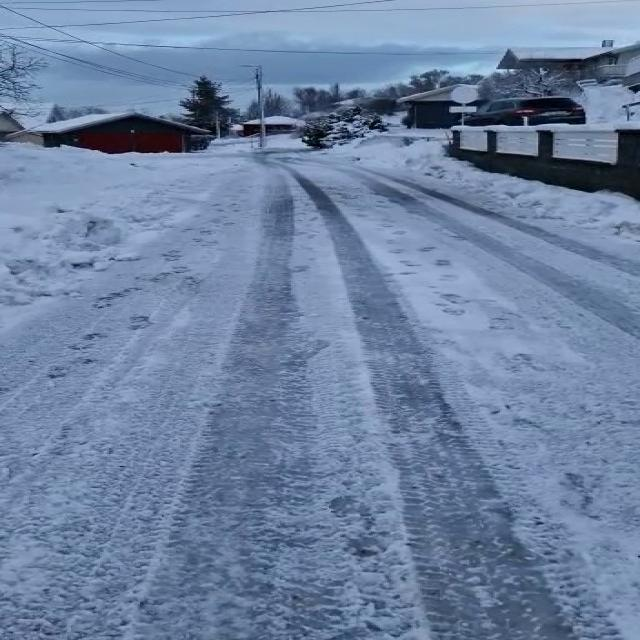path: (2, 147, 638, 640)
